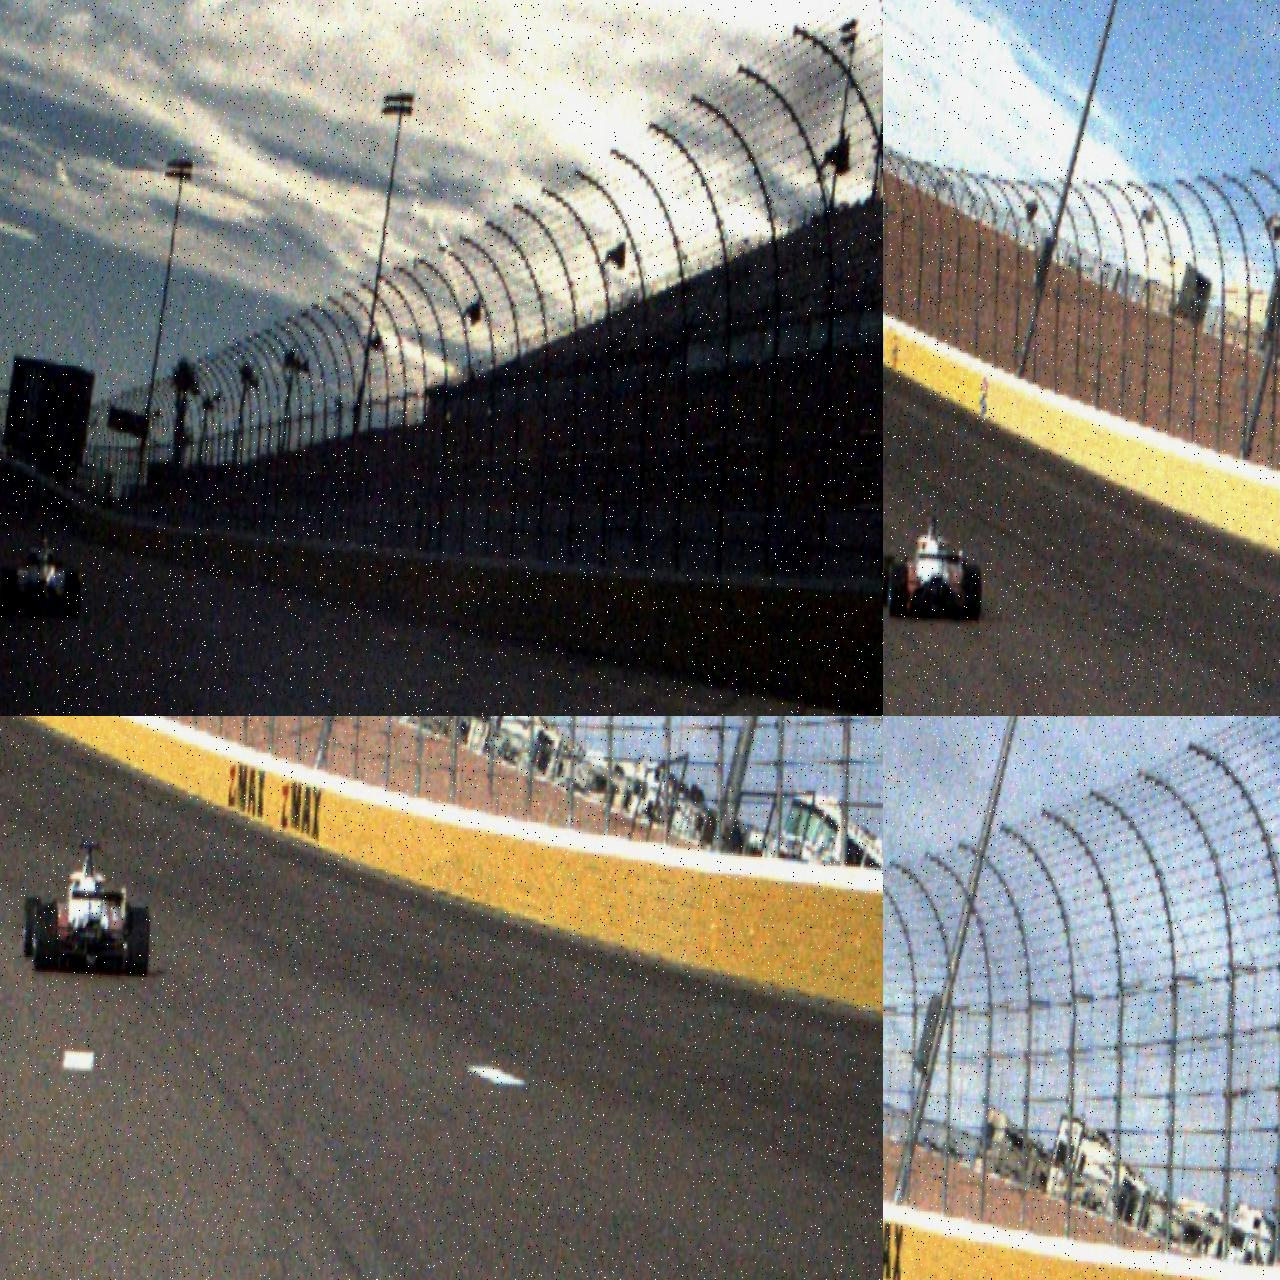AV: (21, 837, 154, 975), (883, 510, 986, 624), (0, 525, 84, 620)
Wheel: (123, 906, 150, 975), (33, 903, 59, 971), (22, 896, 42, 959), (962, 564, 983, 622), (887, 564, 908, 620), (63, 572, 82, 620), (0, 567, 18, 617), (883, 553, 896, 608)
